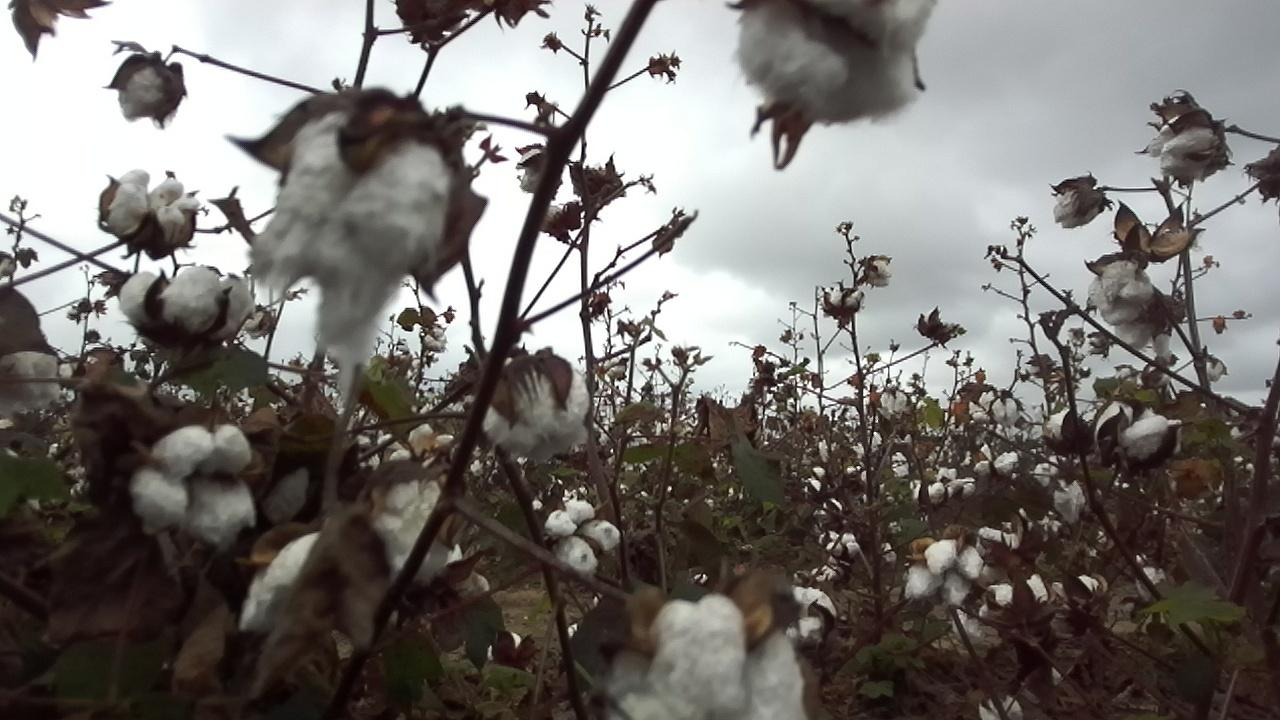cotton_ready: (249, 112, 452, 399), (607, 595, 808, 720), (737, 0, 932, 122), (131, 422, 252, 552), (484, 363, 590, 462), (119, 268, 250, 341), (379, 478, 463, 582), (239, 529, 320, 630), (952, 573, 1049, 649), (1092, 400, 1182, 468), (106, 173, 199, 236), (1089, 259, 1155, 345), (546, 499, 622, 571), (1145, 117, 1224, 185), (904, 540, 985, 606), (0, 353, 60, 414), (117, 64, 172, 122), (787, 588, 837, 639), (1055, 184, 1101, 231), (1049, 410, 1090, 449)
